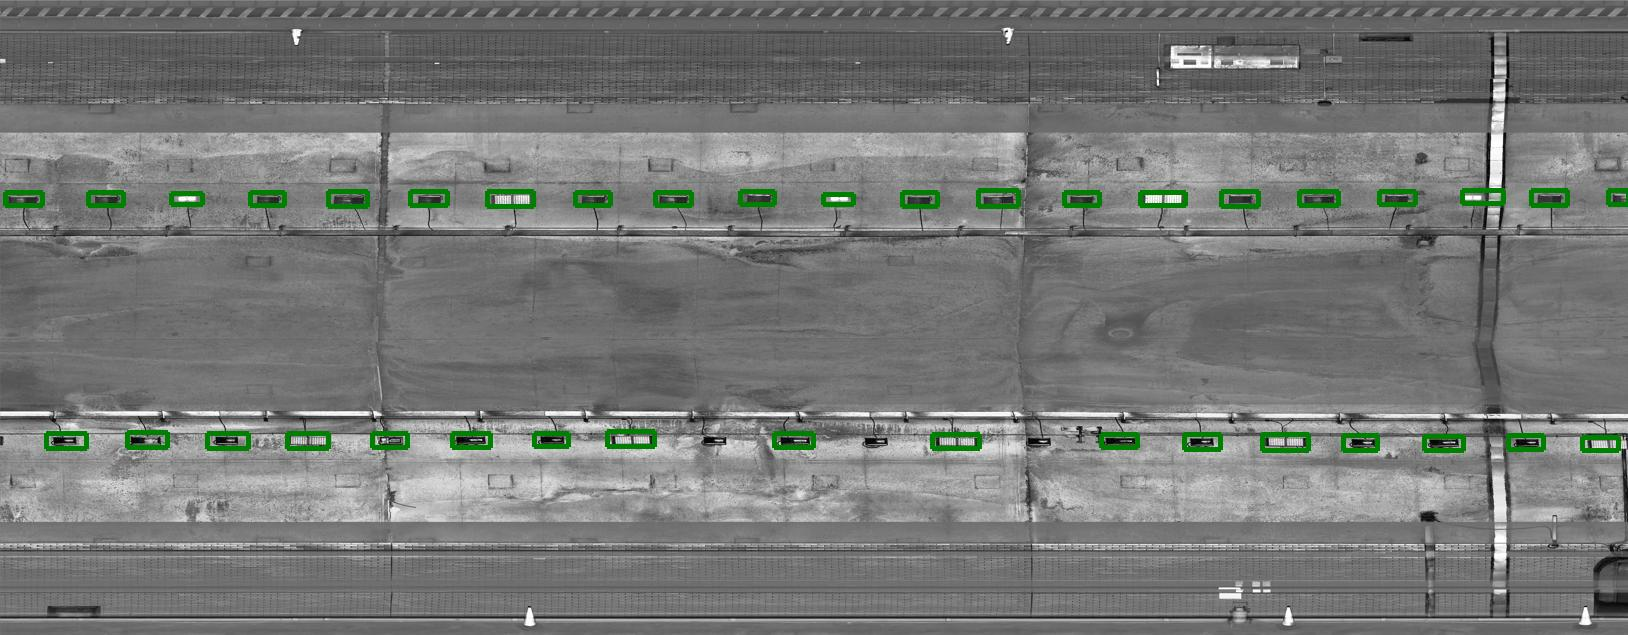light: (605, 429, 656, 448), (487, 190, 538, 209), (930, 432, 979, 449), (1261, 432, 1310, 449), (1579, 434, 1628, 451), (282, 431, 333, 447), (1139, 191, 1188, 208), (47, 431, 84, 446), (127, 432, 164, 447), (208, 432, 245, 447), (452, 432, 489, 447), (374, 433, 411, 448), (533, 431, 570, 446), (699, 431, 736, 446), (777, 434, 814, 449), (859, 434, 896, 449), (1017, 433, 1055, 448), (1102, 434, 1139, 449), (1183, 433, 1220, 448), (1222, 191, 1259, 206), (1300, 191, 1337, 206), (1378, 191, 1415, 206), (1346, 435, 1383, 450), (1426, 435, 1463, 450), (1511, 436, 1548, 451), (4, 192, 40, 208), (88, 191, 125, 206), (251, 192, 288, 208), (331, 191, 368, 206), (413, 190, 450, 205), (579, 191, 616, 206), (655, 192, 691, 208), (740, 190, 777, 205), (904, 192, 941, 208), (1064, 192, 1101, 208), (1532, 191, 1569, 206), (979, 193, 1016, 208), (1458, 189, 1487, 204), (825, 190, 854, 205), (173, 192, 203, 204)
